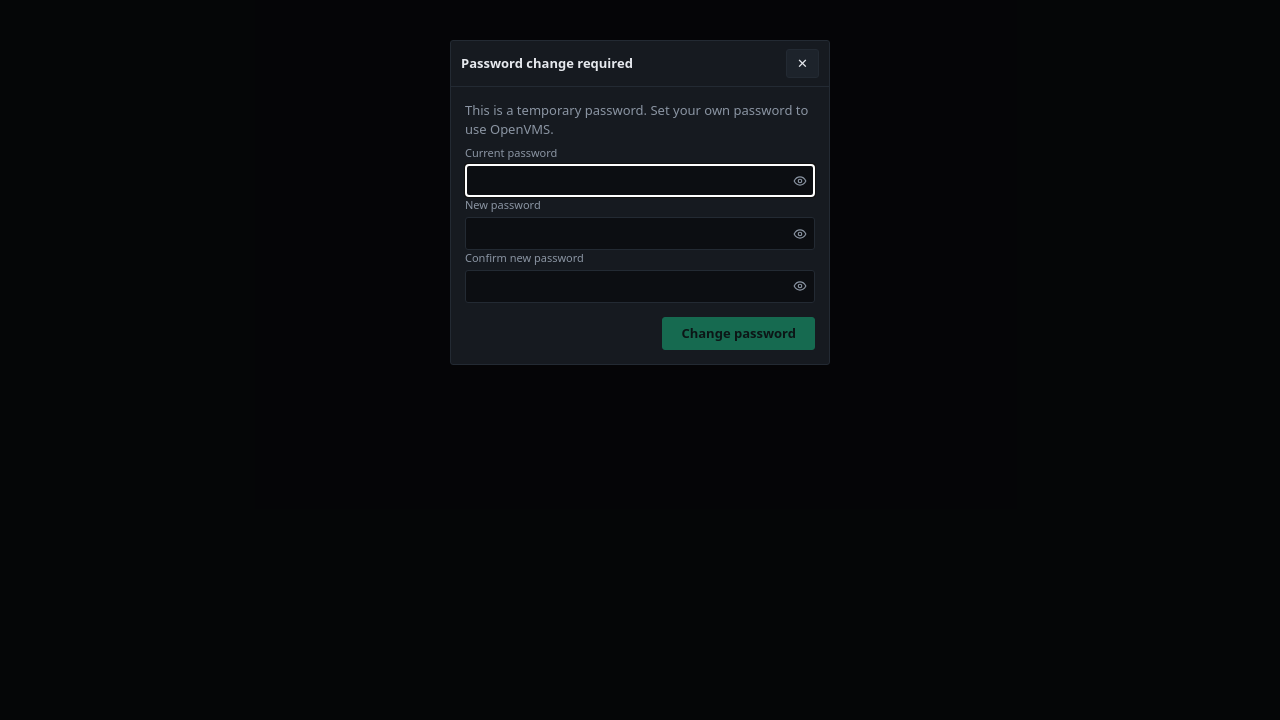
Test: ForcedPasswordChange (spec §7.1.4/§12-F4) › shows the server message when the current password does not match
The width and height of the screenshot is (1280, 720).
Type "errada" into the password field labelled "Current password" at {"x": 640, "y": 181}, box 465,164 -> 815,197
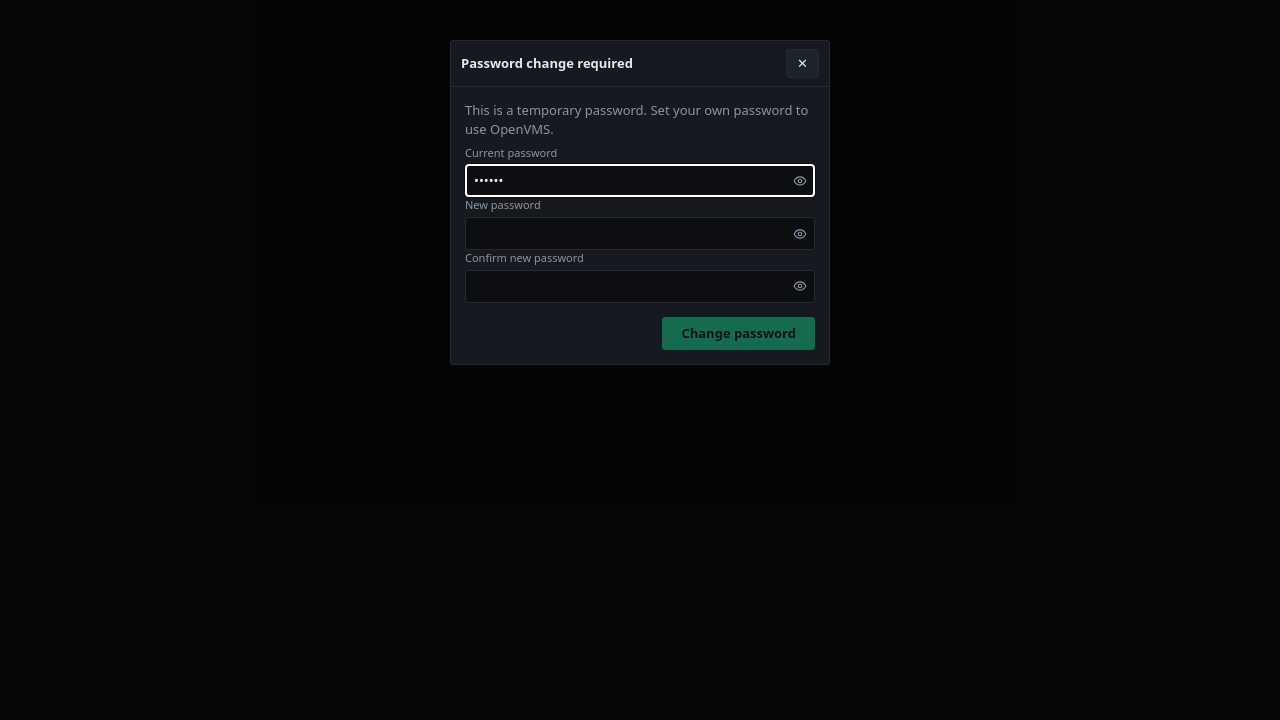
Type "senha-nova-longa" into the password field labelled "New password" at {"x": 640, "y": 234}, box 465,217 -> 815,250
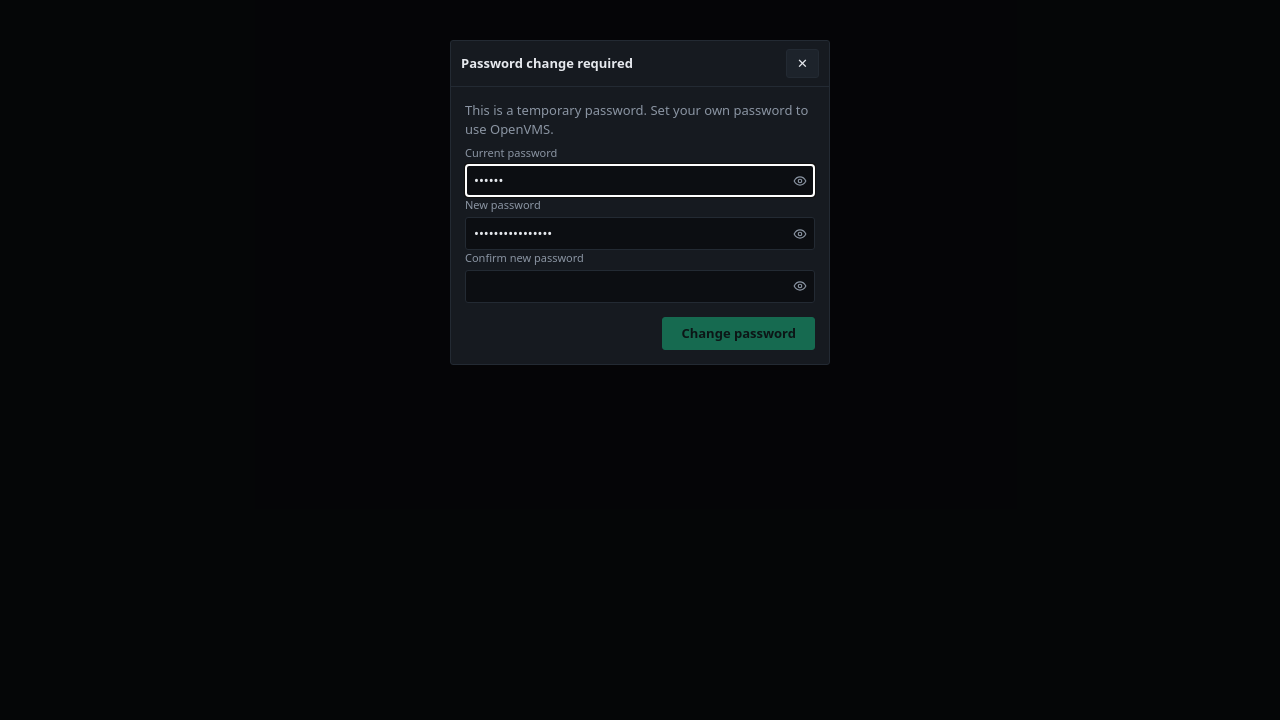
Type "senha-nova-longa" into the password field labelled "Confirm new password" at {"x": 640, "y": 286}, box 465,270 -> 815,303
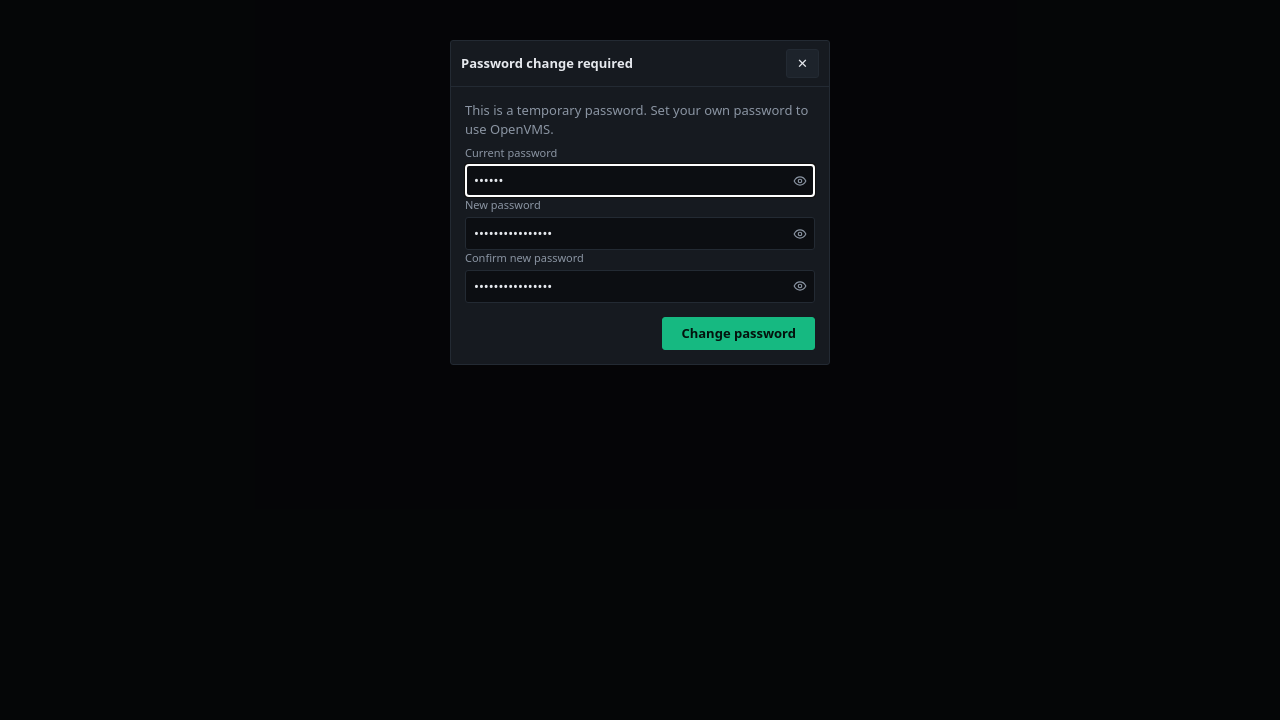
Click the button "Change password" at {"x": 739, "y": 333}, box 662,317 -> 815,350
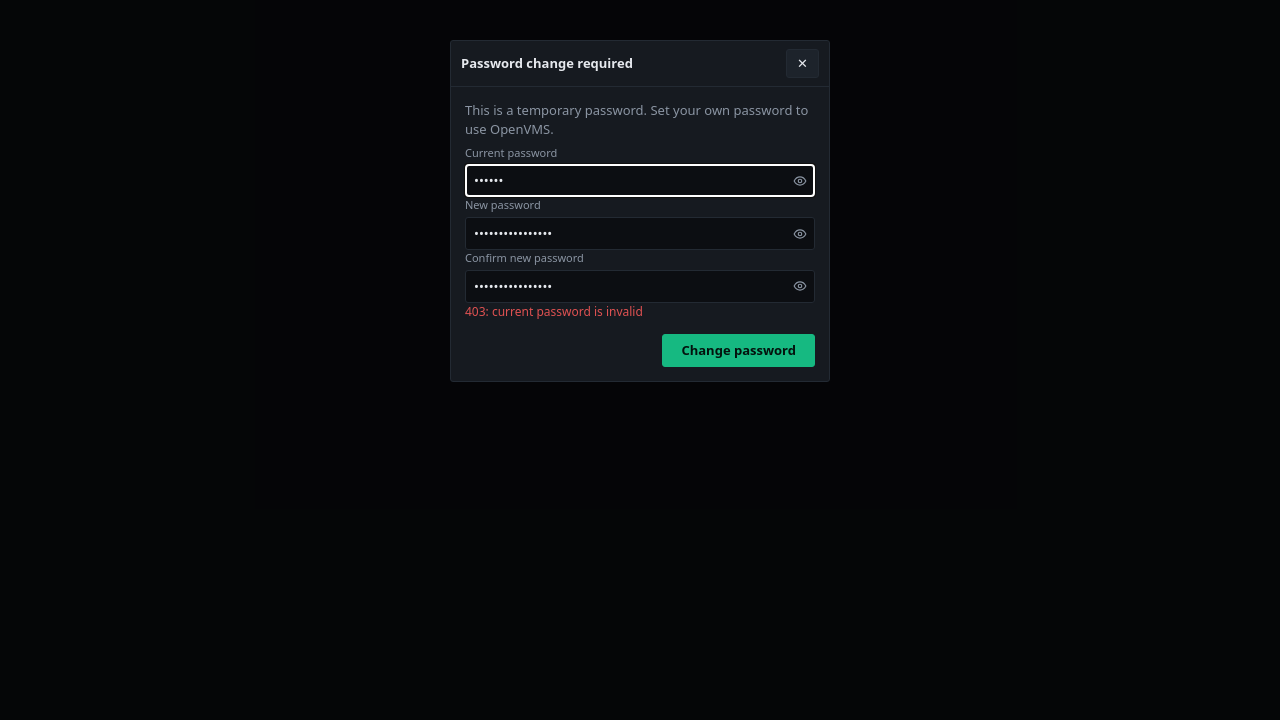
Result: the text "403: current password is invalid" is shown at 465,303 -> 643,320
